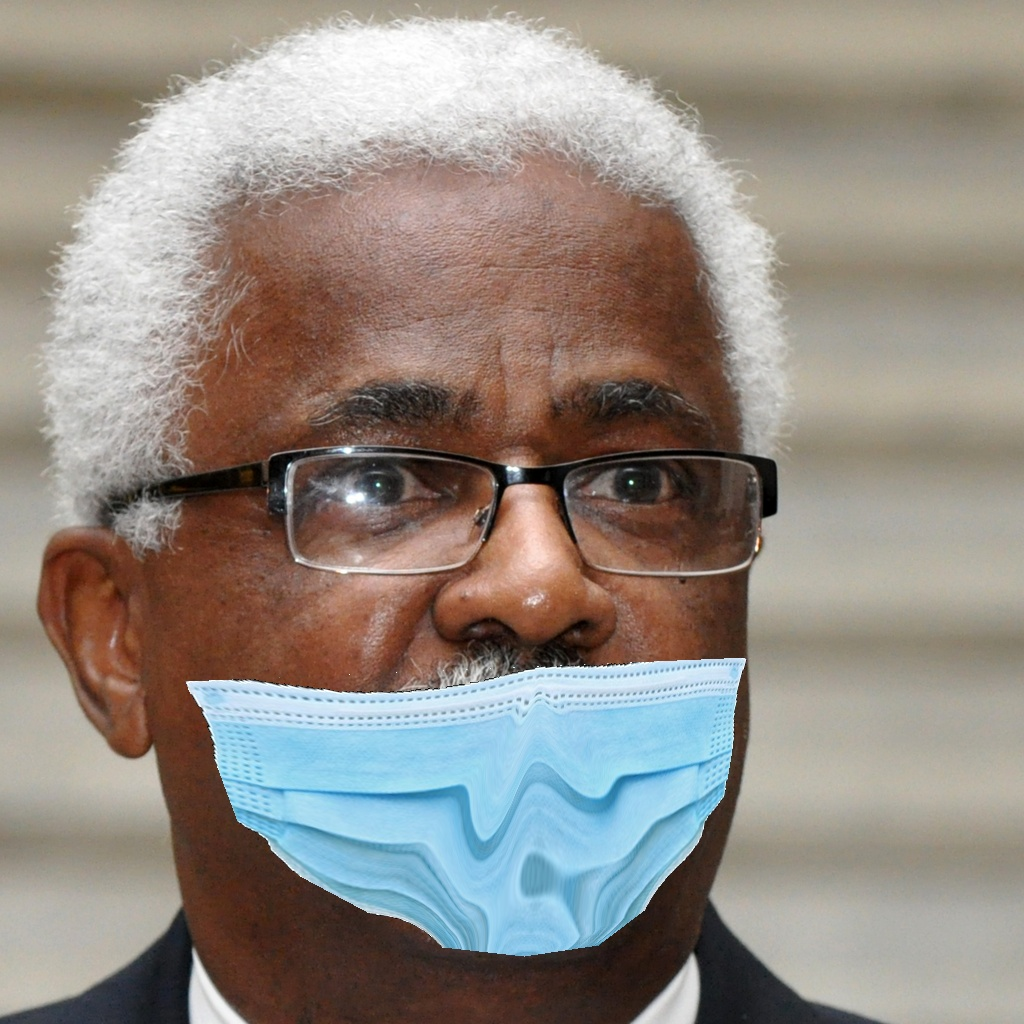mascarilla_mal_puesta: (184, 360, 792, 973)
